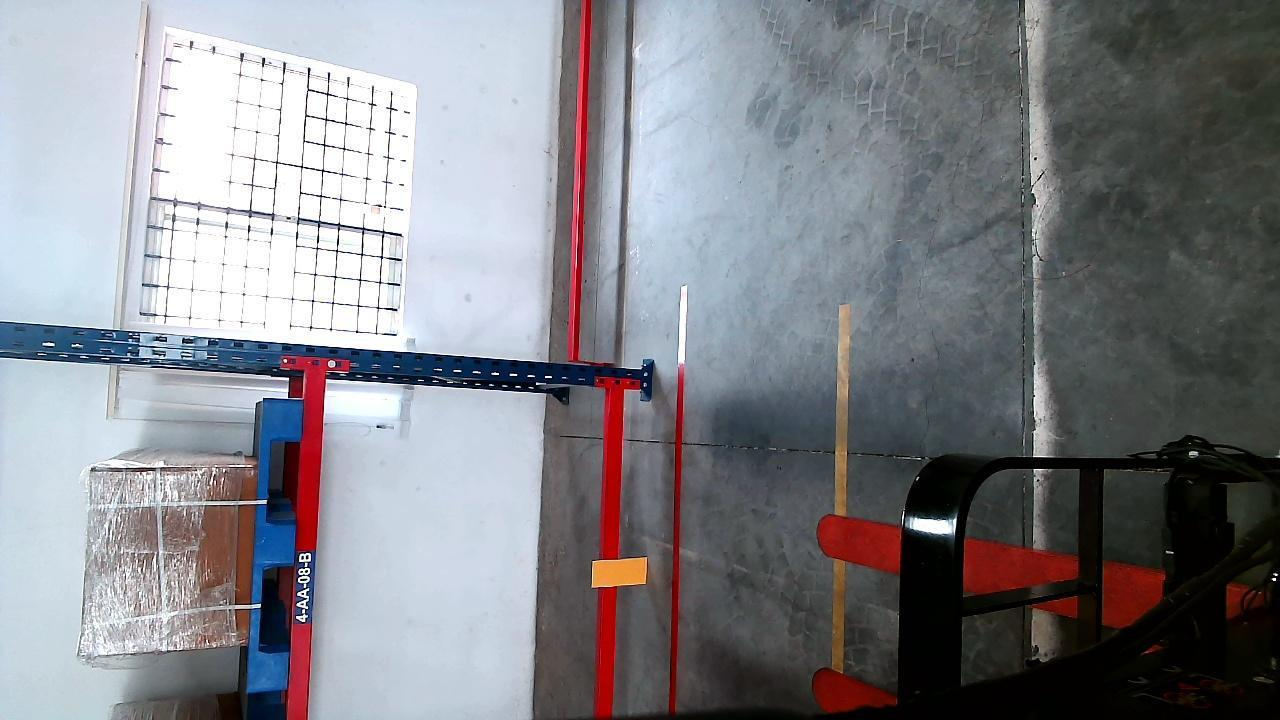h_rack: (291, 371, 329, 712), (593, 392, 625, 719)
orange_strip: (596, 558, 647, 588)
red_line: (665, 288, 690, 720)
small_pallet: (249, 396, 303, 708)
yellow_line: (827, 304, 852, 671)
